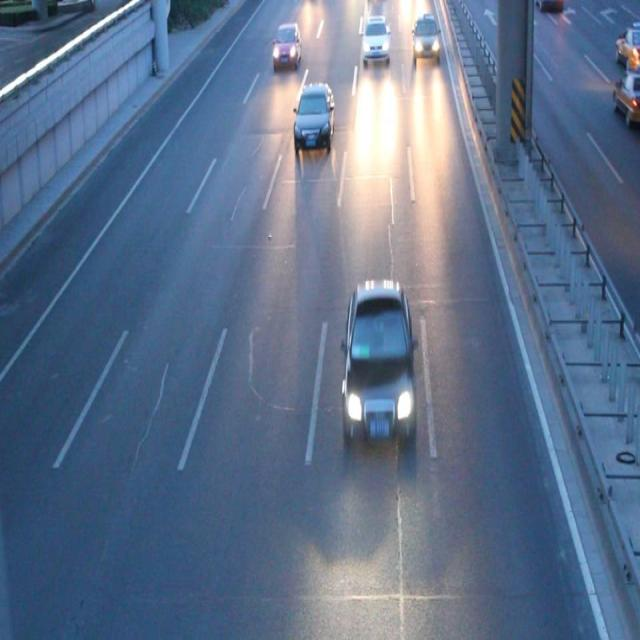car: (344, 282, 414, 440), (293, 82, 334, 146), (610, 71, 640, 126), (614, 19, 640, 72), (362, 15, 388, 60), (499, 17, 532, 52), (273, 24, 301, 65), (412, 18, 438, 57), (535, 1, 561, 11)
